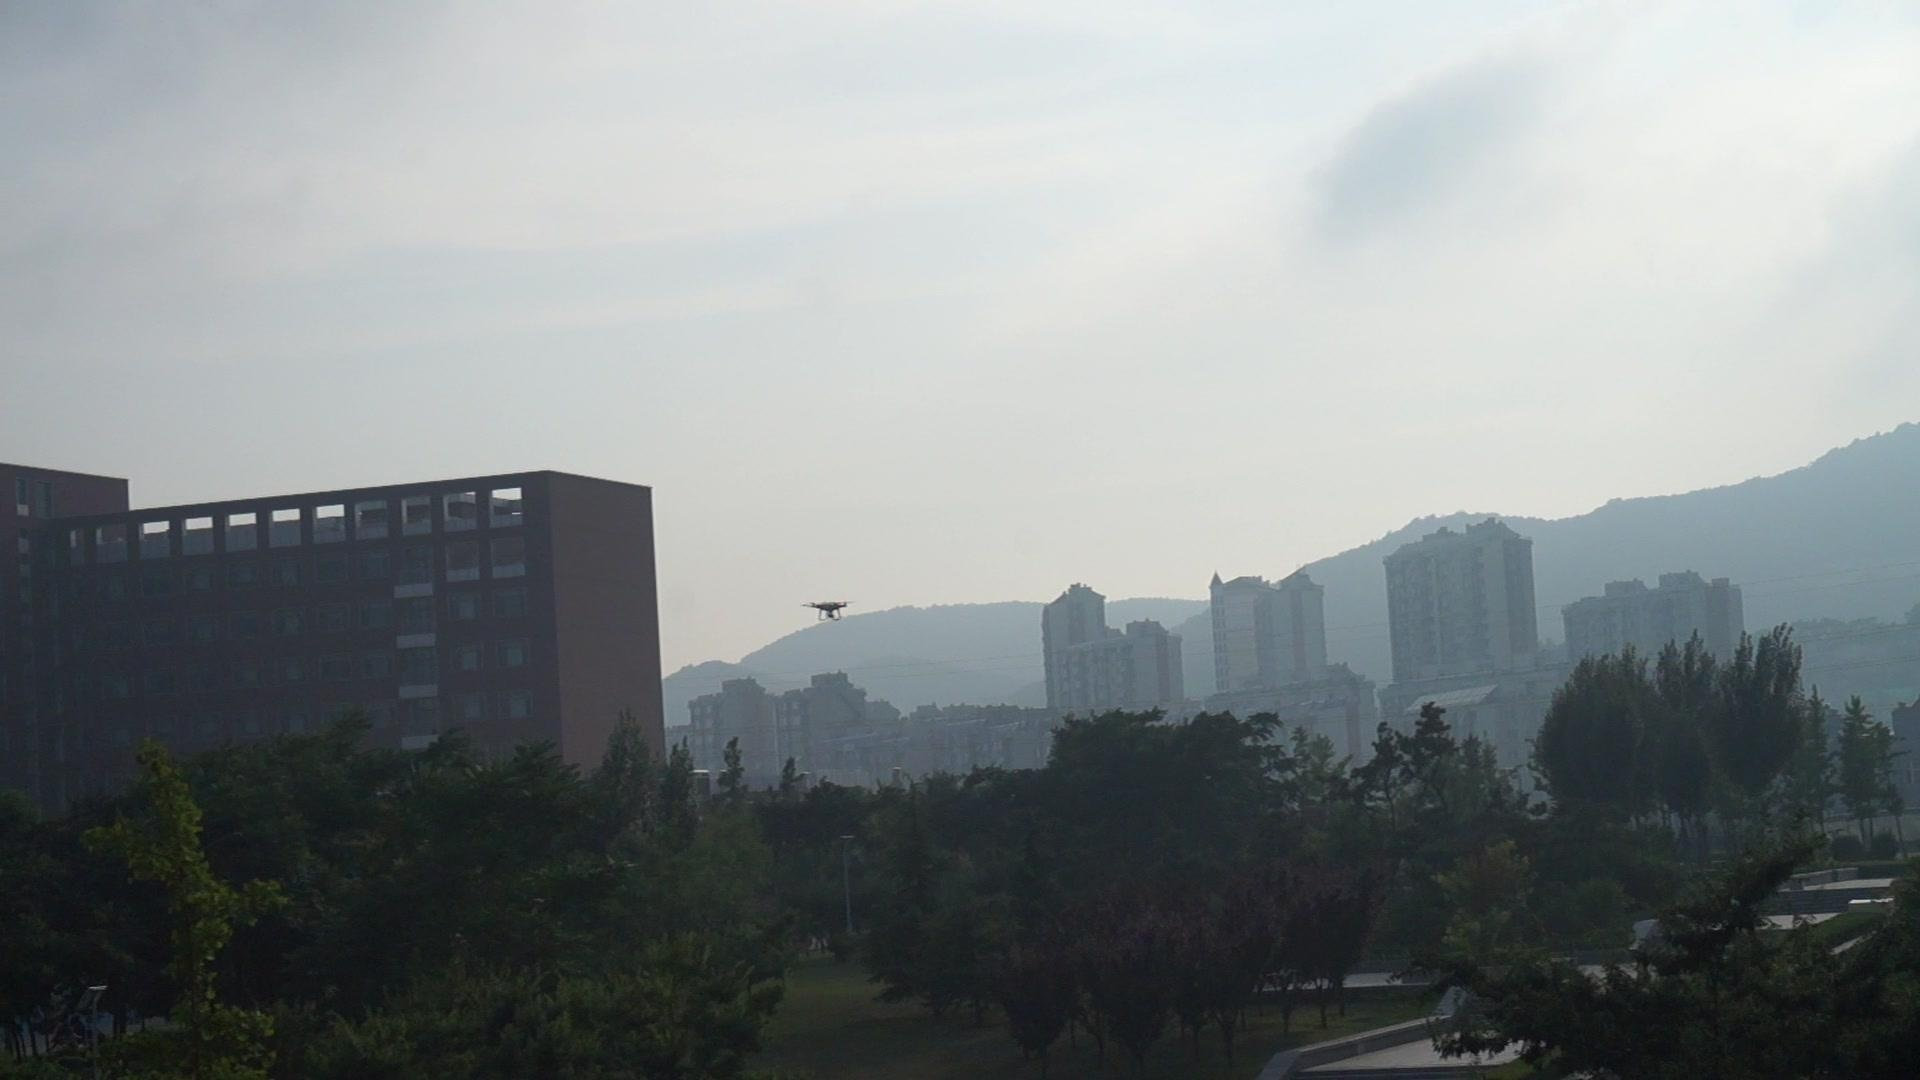UAV: (800, 601, 856, 622)
